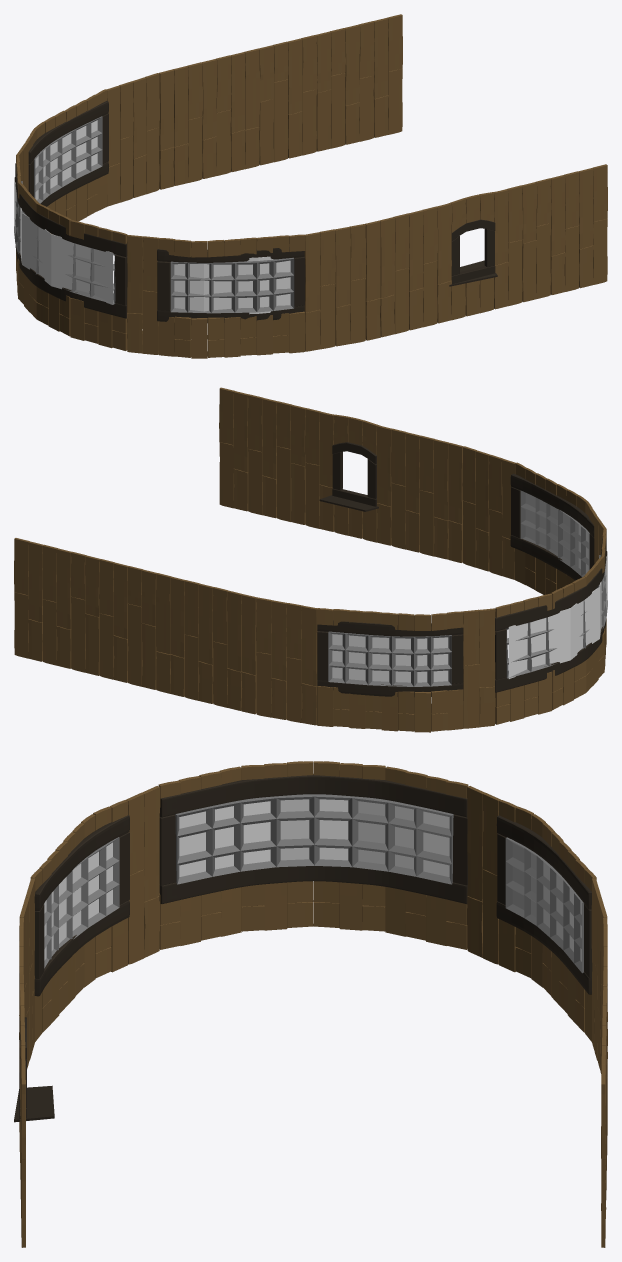
The model's file is paredes_Acabadas.fbx.
3 views of the same model, one above another, from view 1: azimuth 30°, elevation 25°; view 2: azimuth 150°, elevation 25°; view 3: azimuth 270°, elevation 25° (orthographic). The views are drawn at different scales.
Visible parts, largest first — view 1: Cube.015; view 2: Cube.015; view 3: Cube.015.
Part boxes in pixels (x1=…): Cube.015: x1=14, y1=14, x2=607, y2=358; Cube.015: x1=14, y1=387, x2=607, y2=732; Cube.015: x1=14, y1=761, x2=607, y2=1247.
Bounding box in the file's own units: 12.63 × 3.04 × 9.81.
